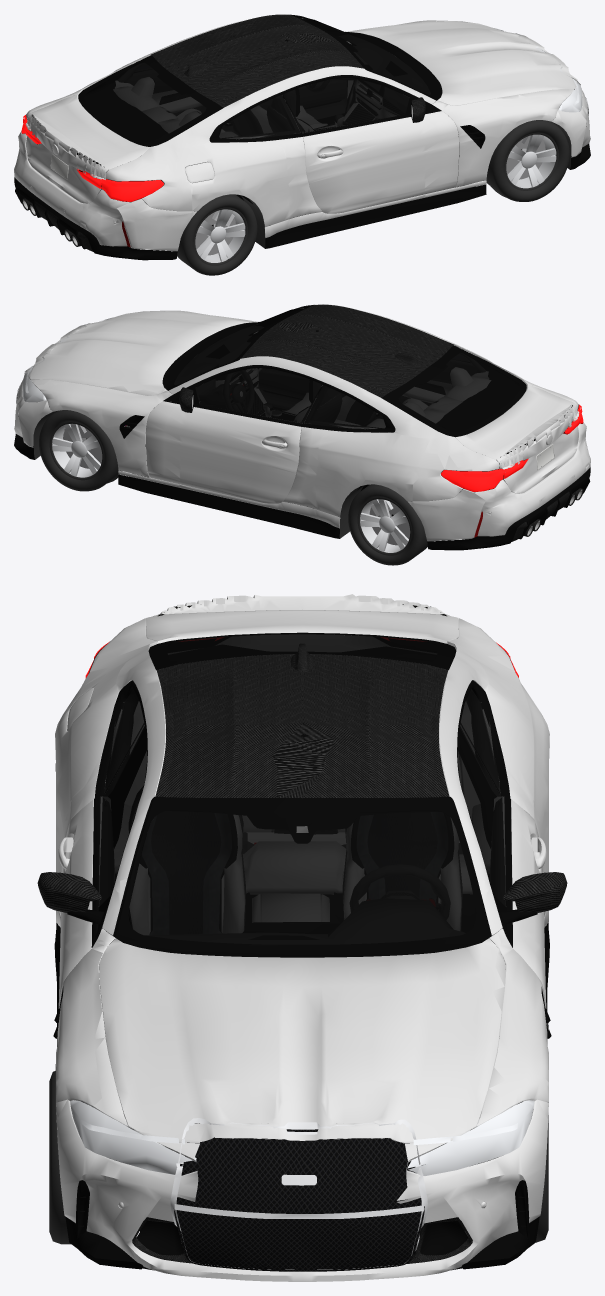
The model's file is bmv_m4.glb.
The picture shows the model from 3 angles, top to bottom: view 1: azimuth 30°, elevation 25°; view 2: azimuth 150°, elevation 25°; view 3: azimuth 270°, elevation 25°; orthographic projection. The views are drawn at different scales.
Visible parts, largest first — view 1: liner_trim, part_glass, core, part_door_fr, part_hood, part_trunk, part_quarter_rr, part_fender_fr, wheel_fr, wheel_rr, part_rear_bumper, part_roof (+3 smaller); view 2: liner_trim, part_glass, core, part_door_fl, part_hood, part_trunk, part_quarter_rl, part_fender_fl, wheel_fl, wheel_rl, part_rear_bumper, part_roof (+3 smaller); view 3: core, part_hood, liner_trim, part_glass, part_front_bumper, part_trunk, part_roof, part_fender_fl, part_fender_fr, part_quarter_rl, part_quarter_rr, headlight_l (+4 smaller).
Part boxes in pixels (box(x1,y1,x2,y2)): liner_trim: box(14, 14, 590, 260); part_glass: box(84, 18, 430, 142); core: box(15, 14, 588, 251); part_door_fr: box(280, 117, 425, 228); part_hood: box(344, 21, 574, 110); part_trunk: box(18, 85, 180, 219); part_quarter_rr: box(59, 139, 289, 237); part_fender_fr: box(412, 88, 574, 197); wheel_fr: box(486, 120, 569, 201); wheel_rr: box(177, 194, 257, 275); part_rear_bumper: box(14, 150, 192, 251); part_roof: box(84, 14, 416, 148); liner_trim: box(14, 305, 590, 550); part_glass: box(174, 308, 520, 432); core: box(16, 304, 589, 541); part_door_fl: box(179, 392, 324, 518); part_hood: box(30, 311, 261, 394); part_trunk: box(424, 375, 586, 509); part_quarter_rl: box(315, 430, 503, 528); part_fender_fl: box(30, 379, 190, 487); wheel_fl: box(39, 410, 121, 491); wheel_rl: box(348, 484, 428, 565); part_rear_bumper: box(412, 440, 590, 541); part_roof: box(188, 304, 520, 438); core: box(37, 638, 567, 1271); part_hood: box(92, 888, 505, 1141); liner_trim: box(53, 604, 551, 1270); part_glass: box(99, 634, 505, 944); part_front_bumper: box(57, 1099, 548, 1281); part_trunk: box(86, 594, 514, 684); part_roof: box(114, 647, 490, 893); part_fender_fl: box(468, 922, 548, 1130); part_fender_fr: box(56, 922, 136, 1130); part_quarter_rl: box(358, 595, 549, 926); part_quarter_rr: box(55, 595, 245, 926); headlight_l: box(407, 1100, 534, 1175).
Bounding box in the file's own units: 4.79 × 1.42 × 2.11.
51 materials, 15 textured.
